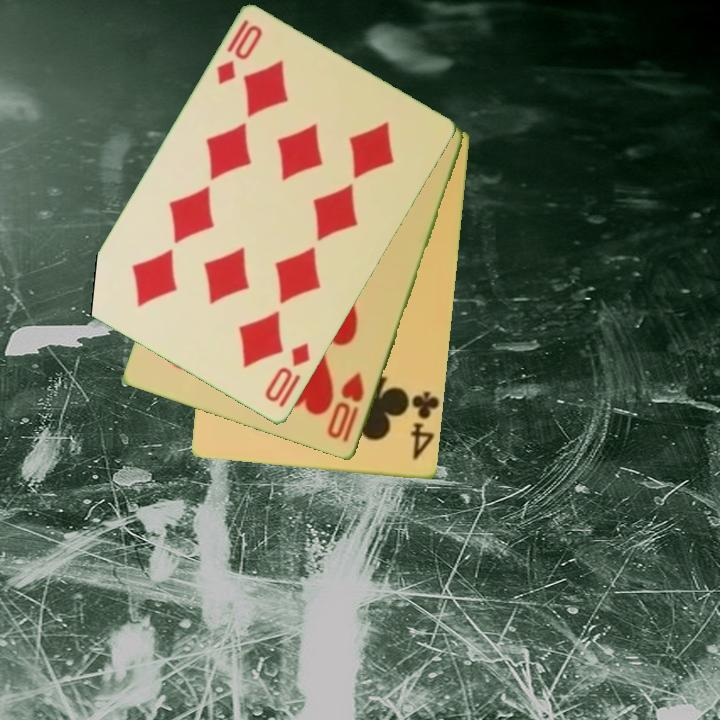10d: (213, 16, 266, 88), (261, 340, 313, 411)
10h: (324, 370, 368, 446)
4c: (405, 388, 442, 463)
